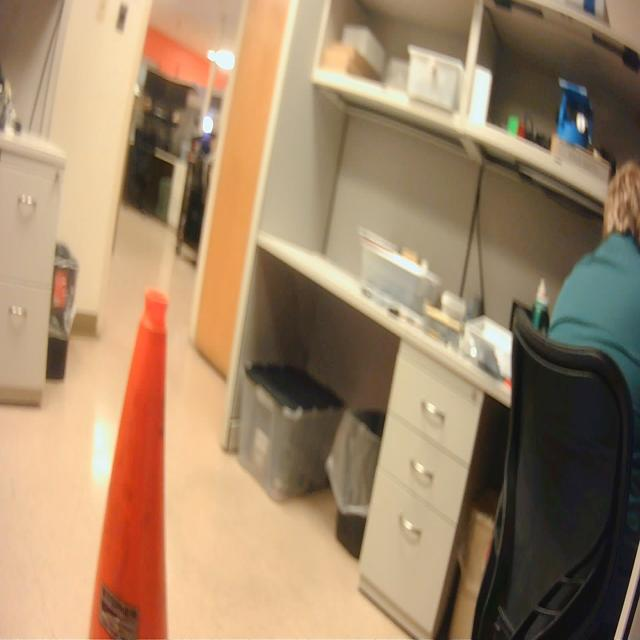traffic cone: (81, 278, 176, 640)
